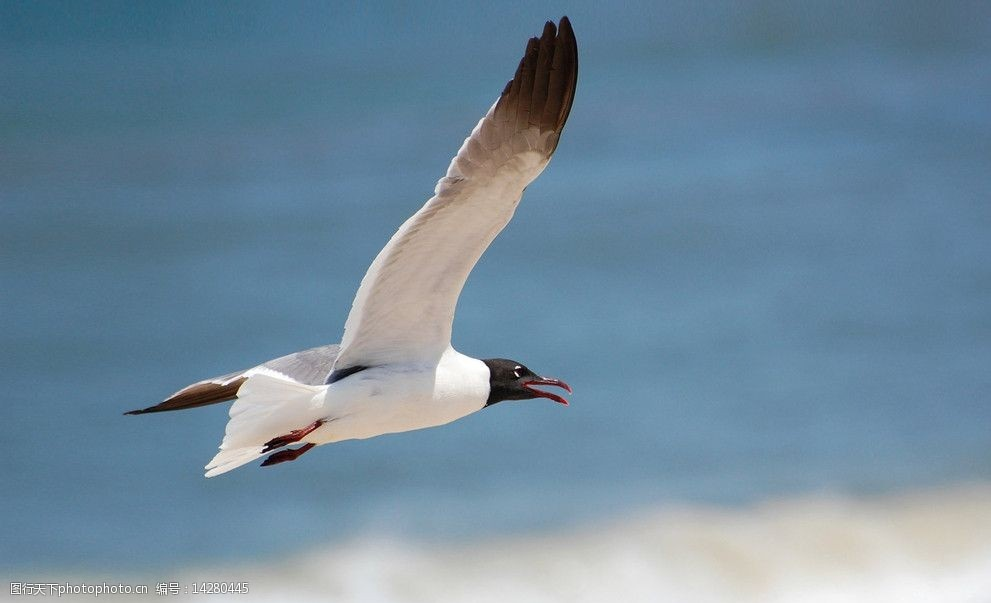bird: (118, 13, 588, 484)
